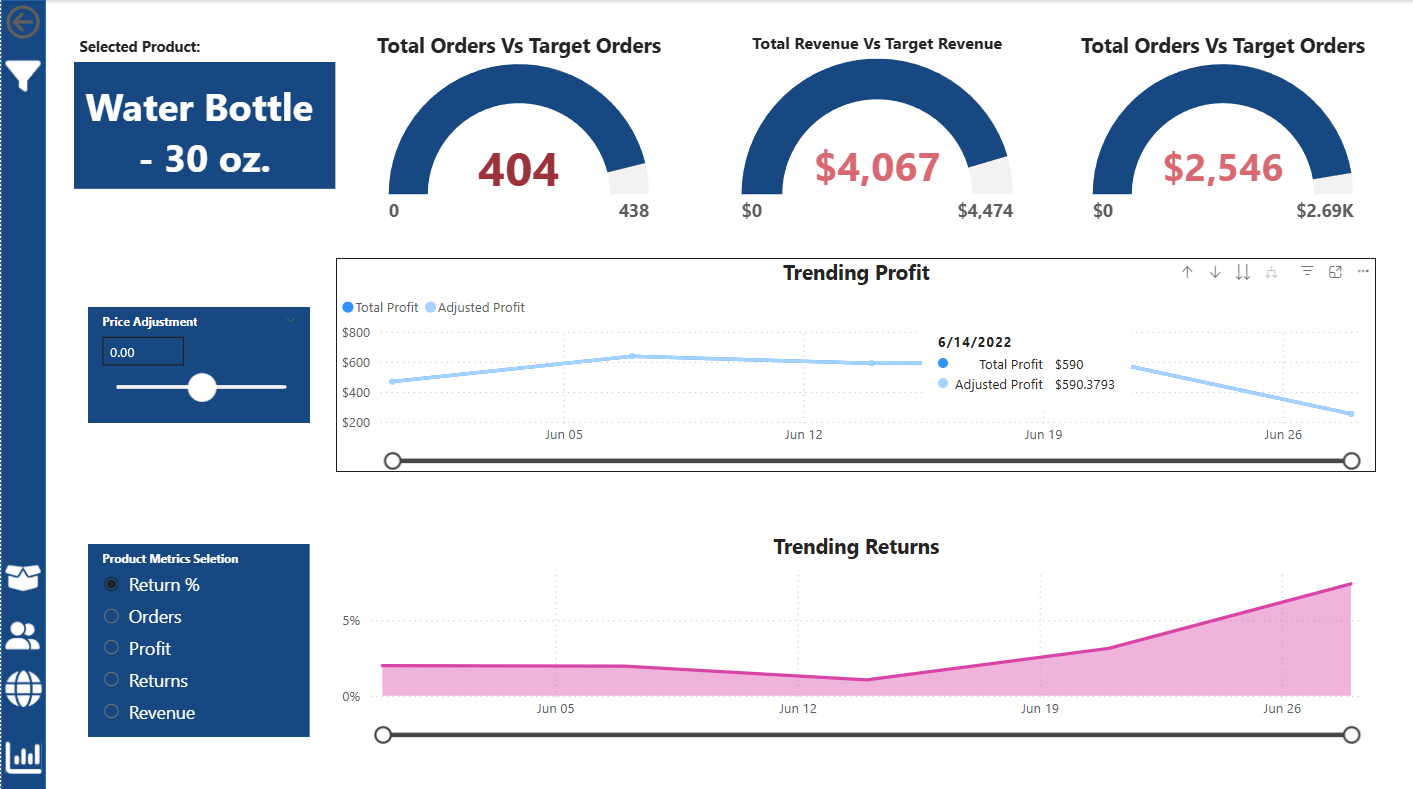

The page's visual inventory and layout, read from the dashboard file:
{"tool":"powerbi","page":{"name":"Product Details","canvas":[1280,720],"ordinal":1},"visuals":[{"type":"shape","box":[0,0,40.8,720],"z":0},{"type":"actionButton","box":[0,665.4,40.9,45.5],"z":0,"group":"g1"},{"type":"gauge","title":"Total Orders Vs Target Orders","fields":{"Y":["Measure Table.Total Orders"],"MaxValue":["Measure Table.Order Monthly Target"]},"box":[331.4,28.2,277.4,184.1],"z":1000},{"type":"actionButton","box":[0,602.7,40.9,45.5],"z":1000,"group":"g1"},{"type":"gauge","title":"Total Orders Vs Target Orders","fields":{"Y":["Measure Table.Total Profit"],"MaxValue":["Measure Table.Profit Mo TArget"]},"box":[969.5,28.2,277.4,184.1],"z":2000},{"type":"actionButton","box":[0,557.2,40.9,39.1],"z":2000,"group":"g1"},{"type":"actionButton","box":[0,504.5,40.9,40],"z":3000,"group":"g1"},{"type":"gauge","title":"Total Revenue Vs Target Revenue","fields":{"MaxValue":["Measure Table.Target Revenue"],"Y":["Measure Table.Total Revenue (Measure)"]},"box":[656.6,28.2,276.1,184.1],"z":3000},{"type":"areaChart","title":"Trending Profit","fields":{"Category":["Calendar Lookup.Date Hierarchy.Start of Year","Calendar Lookup.Date Hierarchy.Start of Month","Calendar Lookup.Date Hierarchy.Start of Week","Calendar Lookup.Date Hierarchy.Date"],"Y":["Measure Table.Total Profit","Measure Table.Adjusted Profit"]},"box":[303.6,233.6,943.6,194.5],"z":4000},{"type":"areaChart","title":"Trending Returns","fields":{"Y":["Measure Table.Return Rate"],"Category":["Calendar Lookup.Date Hierarchy.Start of Year","Calendar Lookup.Date Hierarchy.Start of Month","Calendar Lookup.Date Hierarchy.Start of Week","Calendar Lookup.Date Hierarchy.Date"]},"box":[303.4,482.8,943.4,194.5],"z":5000},{"type":"card","fields":{"Values":["Min(Product Lookup.ProductName)"]},"box":[66.3,56.2,236.9,115.4],"z":6000},{"type":"actionButton","box":[0,0,100,40],"z":7000},{"type":"textbox","box":[66.3,28.2,122.7,52.8],"z":8000},{"type":"group","id":"g1","title":"Page Bookmarks","box":[0,504.5,40.9,206.4],"z":9000},{"type":"slicer","fields":{"Values":["Price Adjustment.Price Adjustment"]},"box":[78.6,278.2,200.6,104.8],"z":10000},{"type":"actionButton","box":[0,49.1,40.9,40],"z":11000},{"type":"slicer","fields":{"Values":["Product Metrics Seletion.Product Metrics Seletion"]},"box":[78.6,492.9,200.6,175.4],"z":12000}]}

Visuals, with their boxes on the page's 1280x720 design canvas (x1, y1, x2, y2). These are canvas units, not pixel positions in the 1413x789 screenshot, which may show the page scaled, cropped or inside an application window:
shape: Rect(0, 0, 41, 720)
actionButton: Rect(0, 665, 41, 711)
"Total Orders Vs Target Orders" gauge: Rect(331, 28, 609, 212)
actionButton: Rect(0, 603, 41, 648)
"Total Orders Vs Target Orders" gauge: Rect(970, 28, 1247, 212)
actionButton: Rect(0, 557, 41, 596)
actionButton: Rect(0, 504, 41, 544)
"Total Revenue Vs Target Revenue" gauge: Rect(657, 28, 933, 212)
"Trending Profit" areaChart: Rect(304, 234, 1247, 428)
"Trending Returns" areaChart: Rect(303, 483, 1247, 677)
card - Min(Product Lookup.ProductName): Rect(66, 56, 303, 172)
actionButton: Rect(0, 0, 100, 40)
textbox: Rect(66, 28, 189, 81)
"Page Bookmarks" group: Rect(0, 504, 41, 711)
slicer - Price Adjustment.Price Adjustment: Rect(79, 278, 279, 383)
actionButton: Rect(0, 49, 41, 89)
slicer - Product Metrics Seletion.Product Metrics Seletion: Rect(79, 493, 279, 668)
